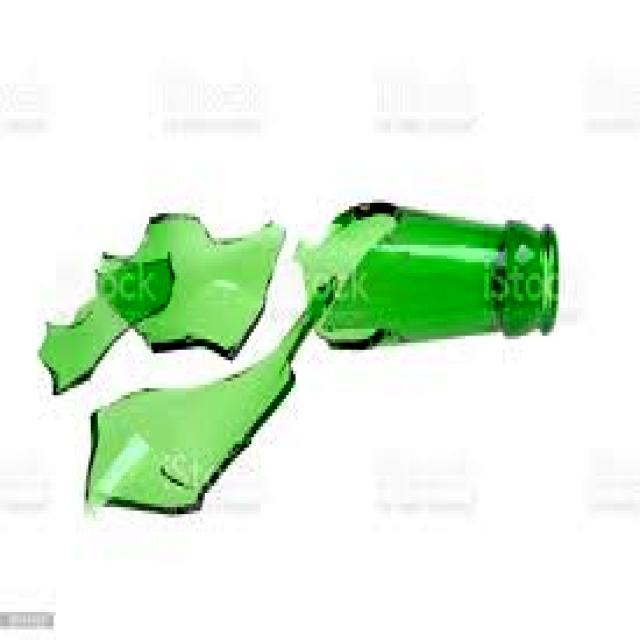Glass: (304, 201, 559, 353), (79, 365, 310, 519), (100, 210, 284, 353), (39, 254, 175, 396)
